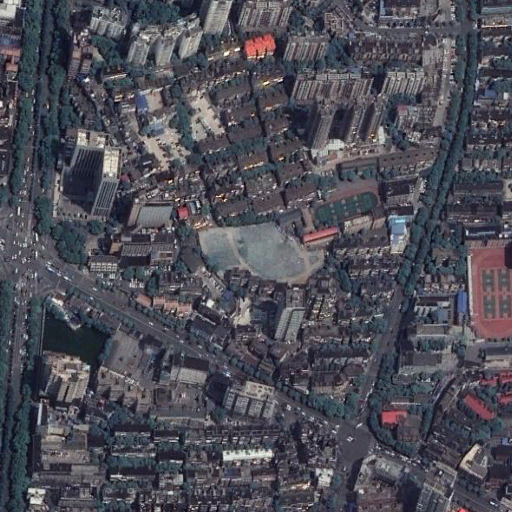cw: (198, 224, 323, 287)
